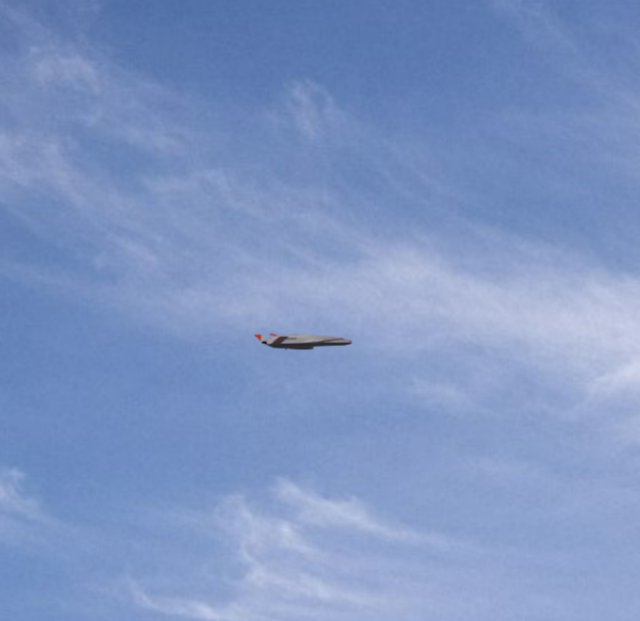military drone: (253, 333, 352, 350)
